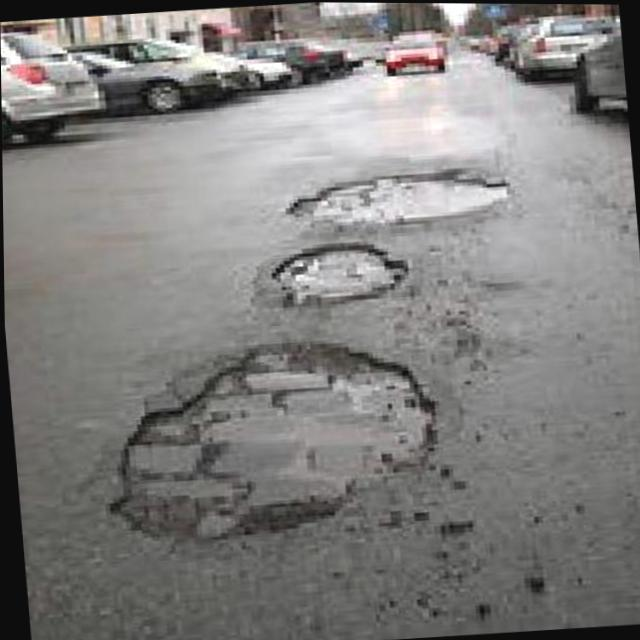Potholes: (104, 336, 432, 538), (254, 152, 533, 227), (234, 236, 428, 311)
